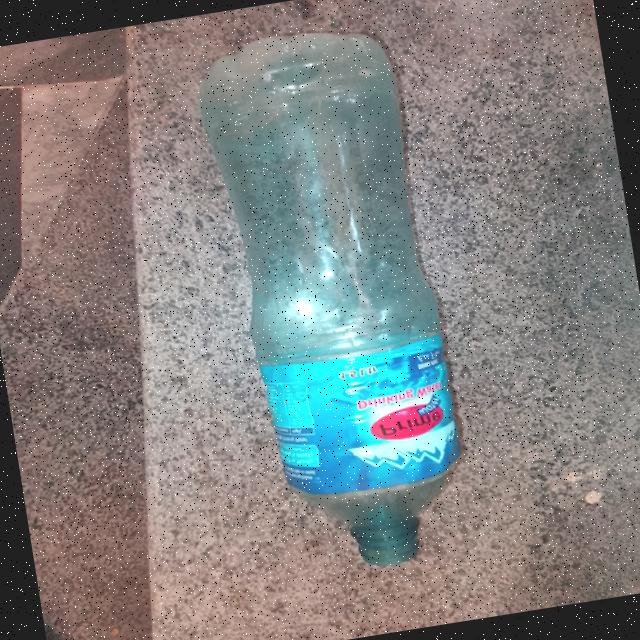bottle: (192, 18, 487, 596)
label: (260, 328, 466, 506)
